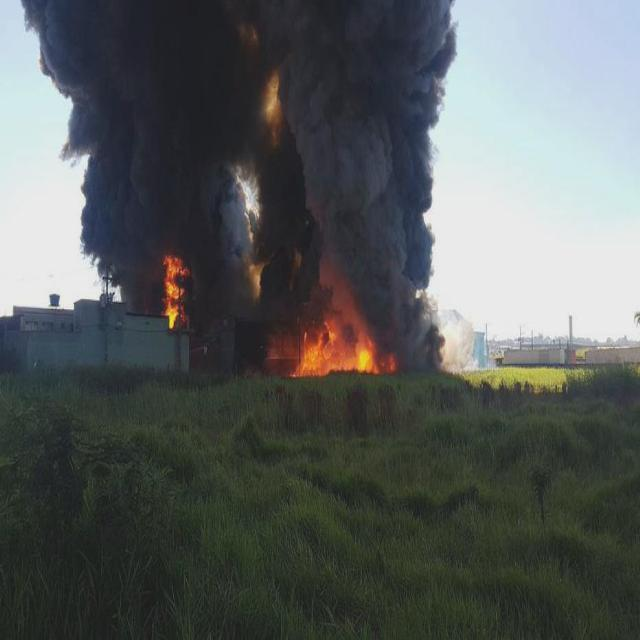fire: (296, 339, 370, 376)
smoke: (82, 6, 243, 259), (300, 0, 420, 330)
